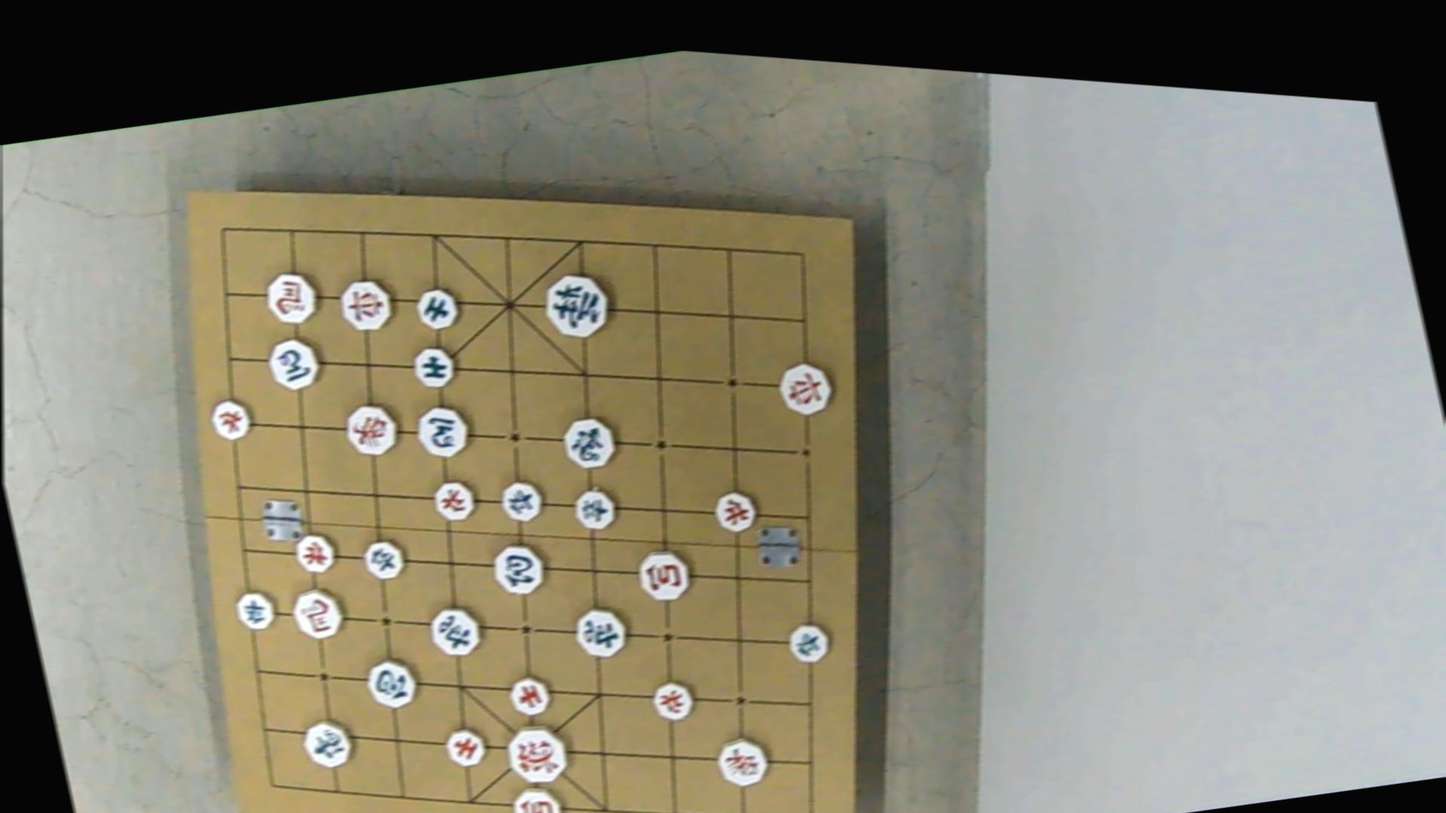cha_green: (571, 601, 632, 663), (426, 600, 484, 661)
cha_red: (774, 356, 836, 421), (337, 273, 397, 335)
jol_green: (497, 477, 545, 527), (572, 485, 619, 534), (360, 535, 407, 584), (785, 618, 831, 666), (236, 587, 281, 635)
jol_red: (710, 486, 758, 535), (432, 474, 478, 523), (210, 395, 256, 444), (292, 528, 338, 577), (653, 677, 698, 724)
ma_green: (415, 400, 474, 464), (265, 333, 324, 396)
ma_red: (263, 266, 321, 327), (291, 582, 346, 643)
po_green: (490, 538, 549, 601), (365, 652, 420, 711)
po_red: (635, 544, 695, 604), (512, 780, 569, 813)
sa_green: (410, 343, 457, 391), (416, 284, 462, 333)
sa_red: (509, 671, 554, 718), (445, 723, 490, 769)
sang_green: (560, 412, 618, 473), (300, 714, 355, 771)
sang_red: (344, 396, 404, 459), (712, 732, 770, 792)
wang_green: (543, 266, 618, 344)
wang_red: (506, 718, 574, 790)
